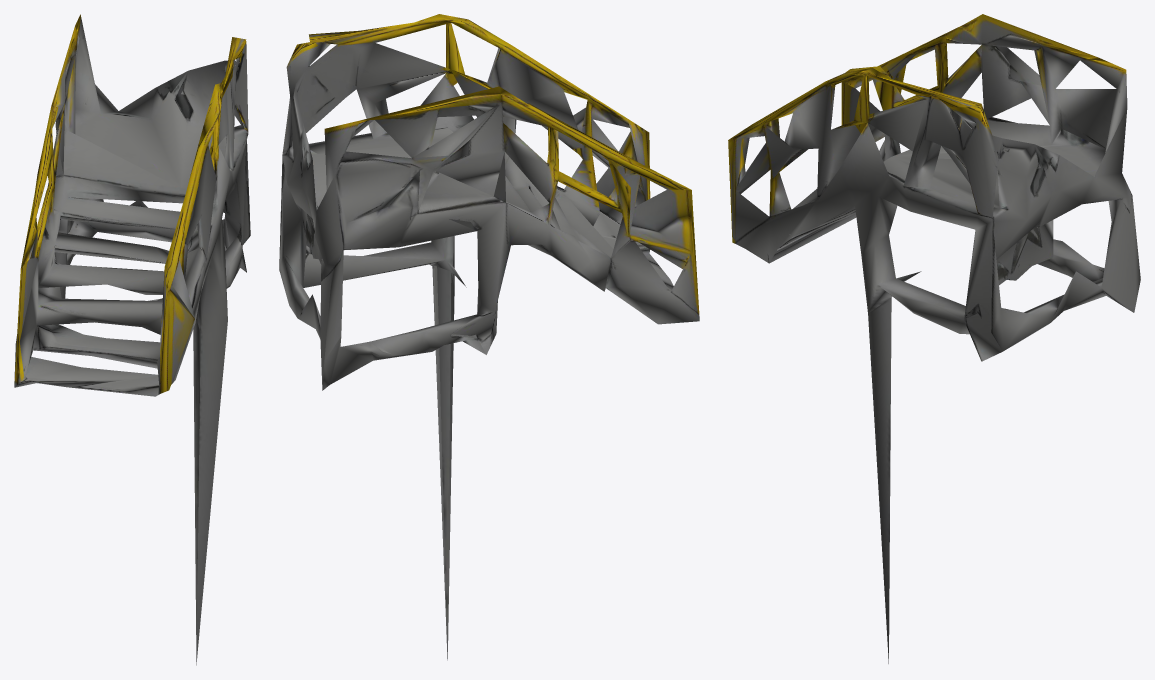
The model's file is selected.fbx.
The picture shows the model from 3 angles, left to right: view 1: azimuth 30°, elevation 25°; view 2: azimuth 150°, elevation 25°; view 3: azimuth 270°, elevation 25°; orthographic projection. The views are drawn at different scales.
Visible parts, largest first — view 1: tripo_node_cd65176e-944d-4bb9-ba22-f25cfe1332b3; view 2: tripo_node_cd65176e-944d-4bb9-ba22-f25cfe1332b3; view 3: tripo_node_cd65176e-944d-4bb9-ba22-f25cfe1332b3.
Part boxes in pixels (x1,y1,x2,y2): tripo_node_cd65176e-944d-4bb9-ba22-f25cfe1332b3: (14, 14, 250, 665); tripo_node_cd65176e-944d-4bb9-ba22-f25cfe1332b3: (279, 14, 699, 660); tripo_node_cd65176e-944d-4bb9-ba22-f25cfe1332b3: (728, 14, 1140, 663).
Size of the model in its own units: 55.55 by 100 by 61.6.
1 material, 1 textured.
